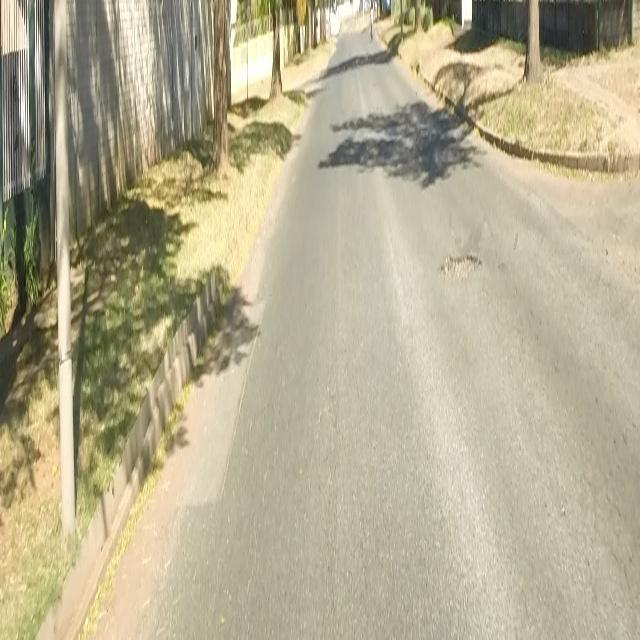pothole: (437, 247, 483, 287)
